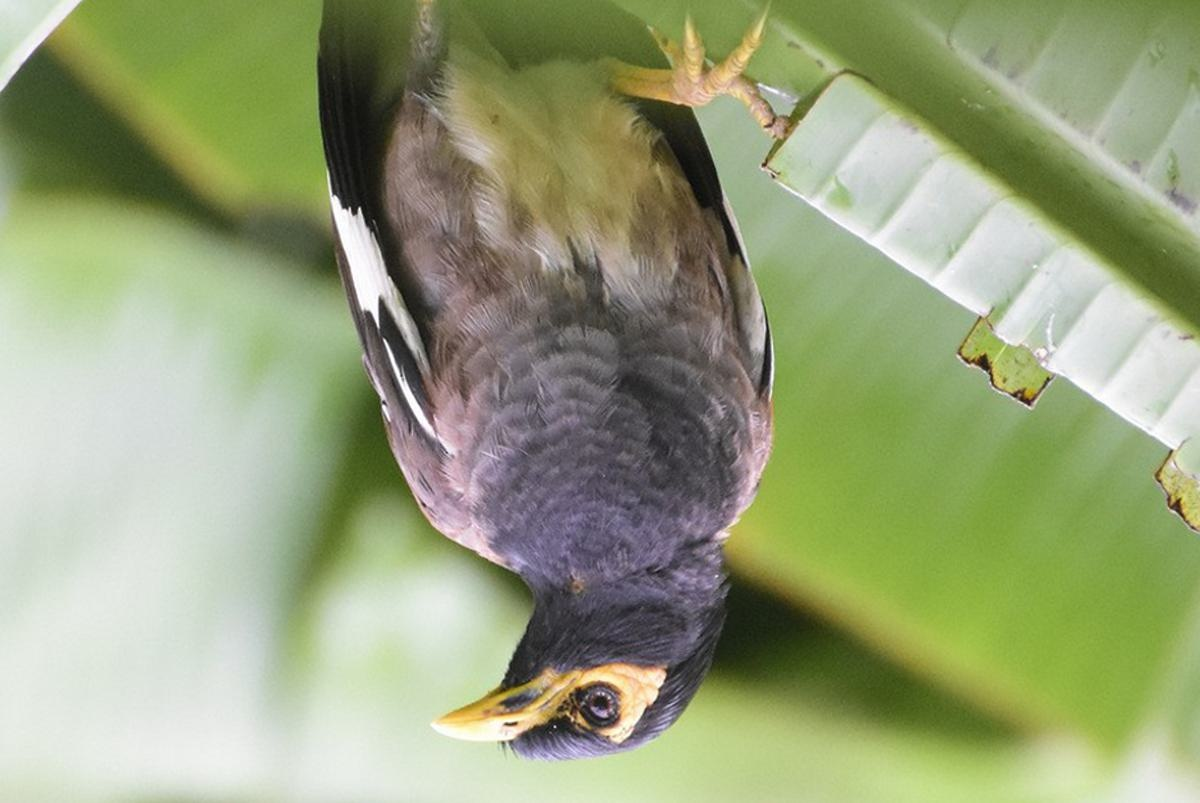myna: (216, 1, 751, 748)
